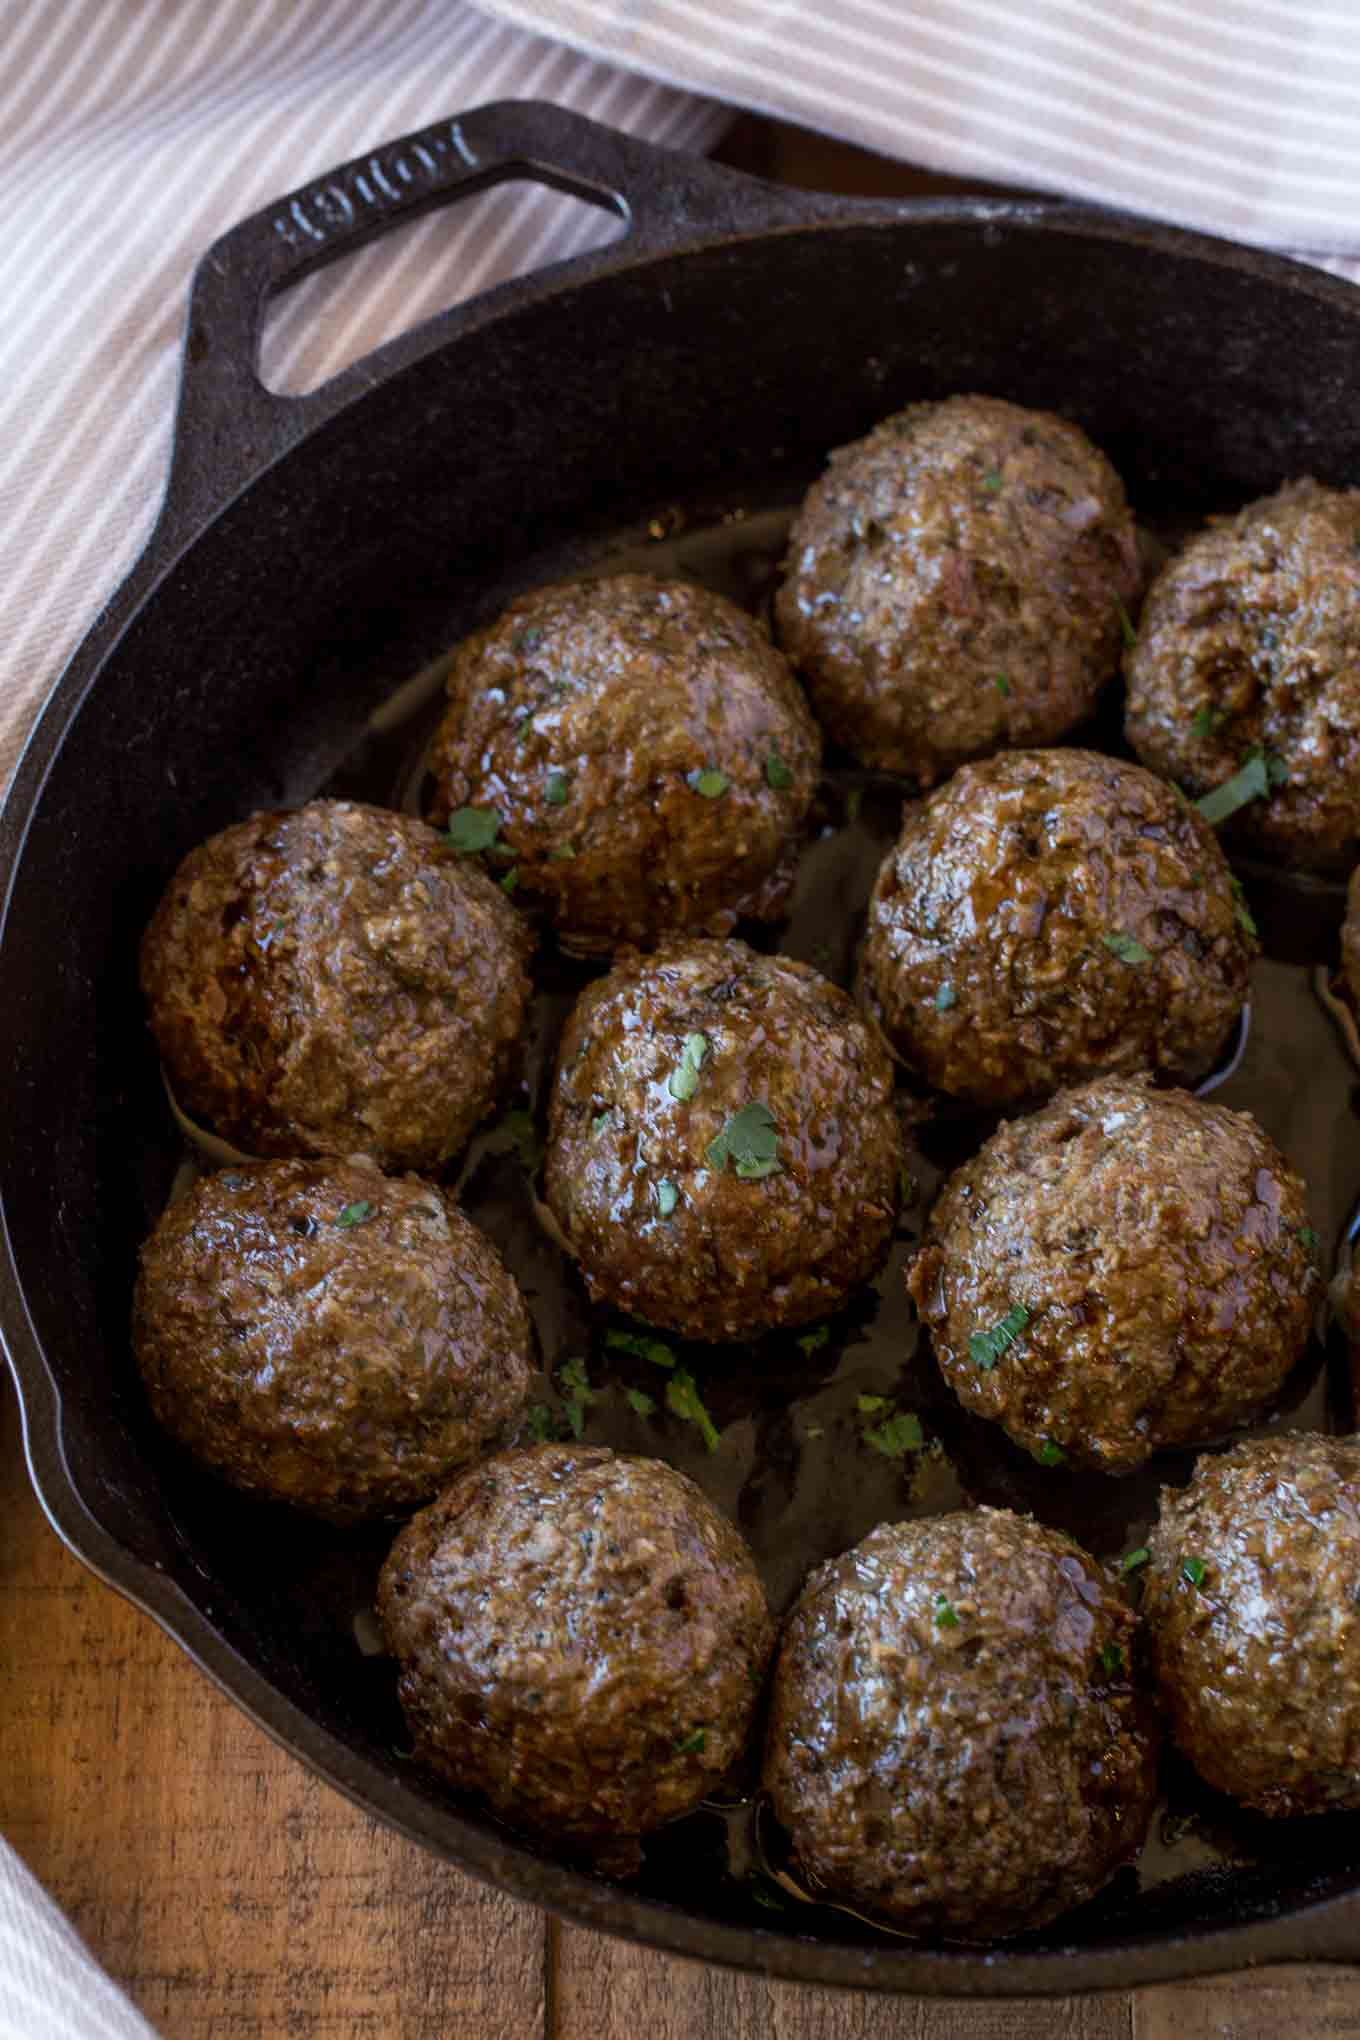meatballs: (763, 1516, 1152, 1909), (360, 1453, 763, 1817), (137, 811, 545, 1163), (132, 1154, 530, 1501), (791, 396, 1157, 739), (554, 946, 889, 1311), (940, 1110, 1292, 1450), (434, 575, 795, 902), (864, 756, 1223, 1075), (1134, 1443, 1360, 1802), (1163, 483, 1360, 773)
